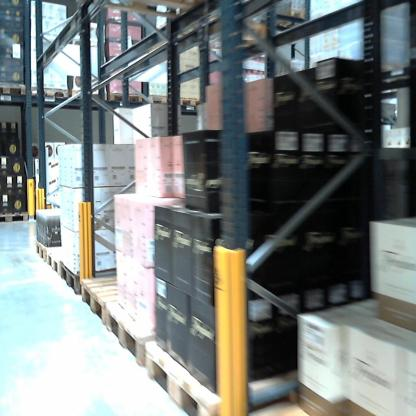pallet: (145, 326, 327, 413), (104, 296, 176, 370), (77, 272, 154, 333), (59, 258, 147, 309), (30, 1, 223, 23), (239, 7, 311, 38), (249, 396, 334, 415), (45, 244, 76, 273), (28, 83, 71, 103), (143, 91, 178, 111), (67, 88, 106, 104), (1, 78, 29, 99), (36, 235, 51, 269), (1, 209, 30, 226), (176, 94, 206, 110), (105, 93, 146, 103)
